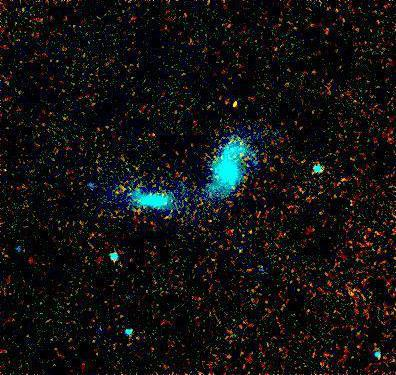star: (210, 90, 240, 120)
